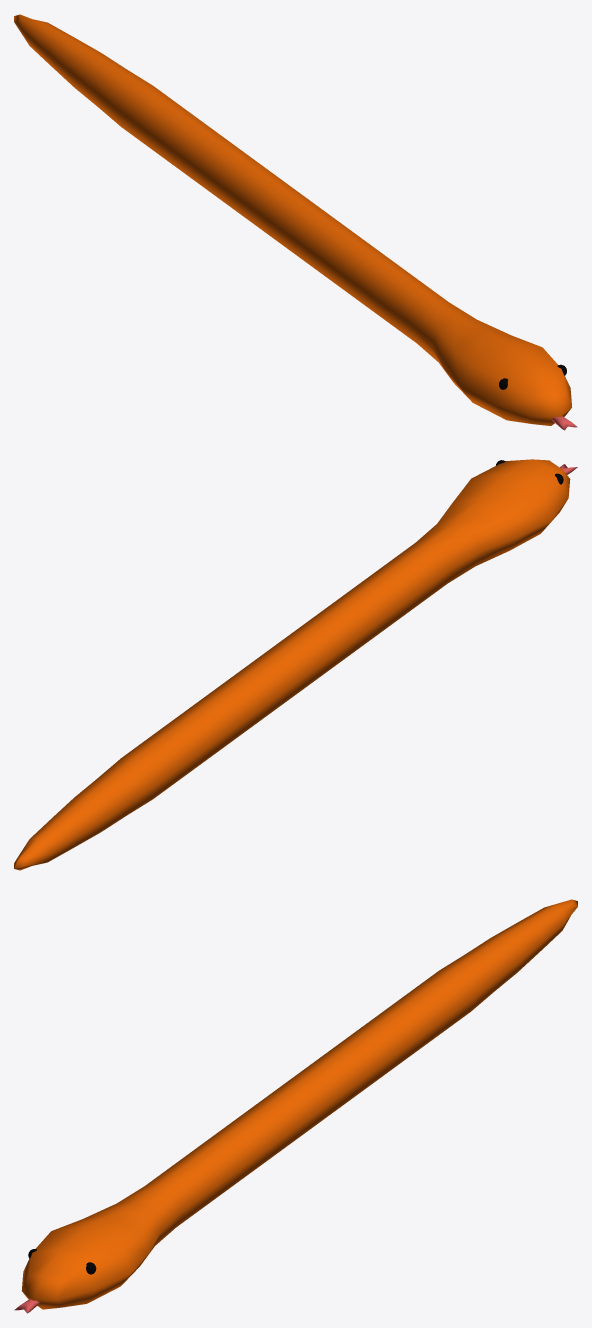
File: snake_prt.fbx
The picture shows the model from 3 angles, top to bottom: view 1: azimuth 30°, elevation 25°; view 2: azimuth 150°, elevation 25°; view 3: azimuth 330°, elevation 25°; orthographic projection.
Parts seen in each view (by area): view 1: pCube1; view 2: pCube1; view 3: pCube1.
Part boxes in pixels (x1,y1,x2,y2): pCube1: [14, 14, 571, 425]; pCube1: [14, 459, 570, 870]; pCube1: [21, 899, 577, 1309].
Size of the model in its own units: 1.33 by 0.767 by 13.8.
